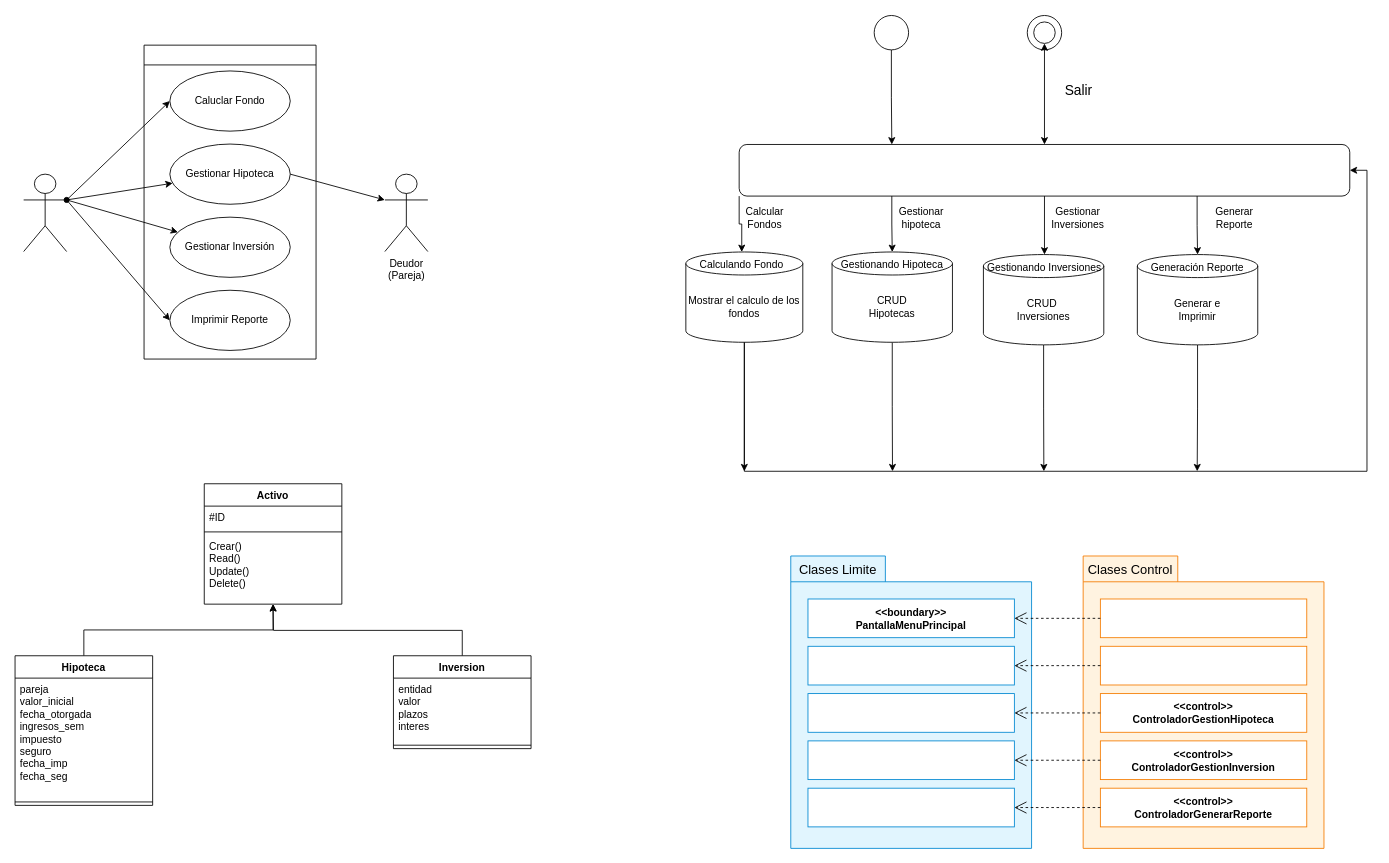
This 1389x863 diagram has some shape labels left out. The shapes that lost their labels are listed below. From the top down, each one's centre as x and y in pixels, then its label:
the point at 1044,170: Ejecución del Sistema (Loop - bucle del sistema)
the point at 45,212: Empleado MSG-F
the point at 229,201: MSG-F
the point at 1203,618: <<control>> GestorLoopSistema
the point at 910,665: <<boundary>> InterfazCalcularFondo
the point at 1203,665: <<control>> ControladorCalculoFondo
the point at 910,712: <<boundary>> InterfazGestionHipoteca
the point at 910,760: <<boundary>> InterfazGestionInversion
the point at 910,807: <<boundary>> InterfazImpresionReporte
